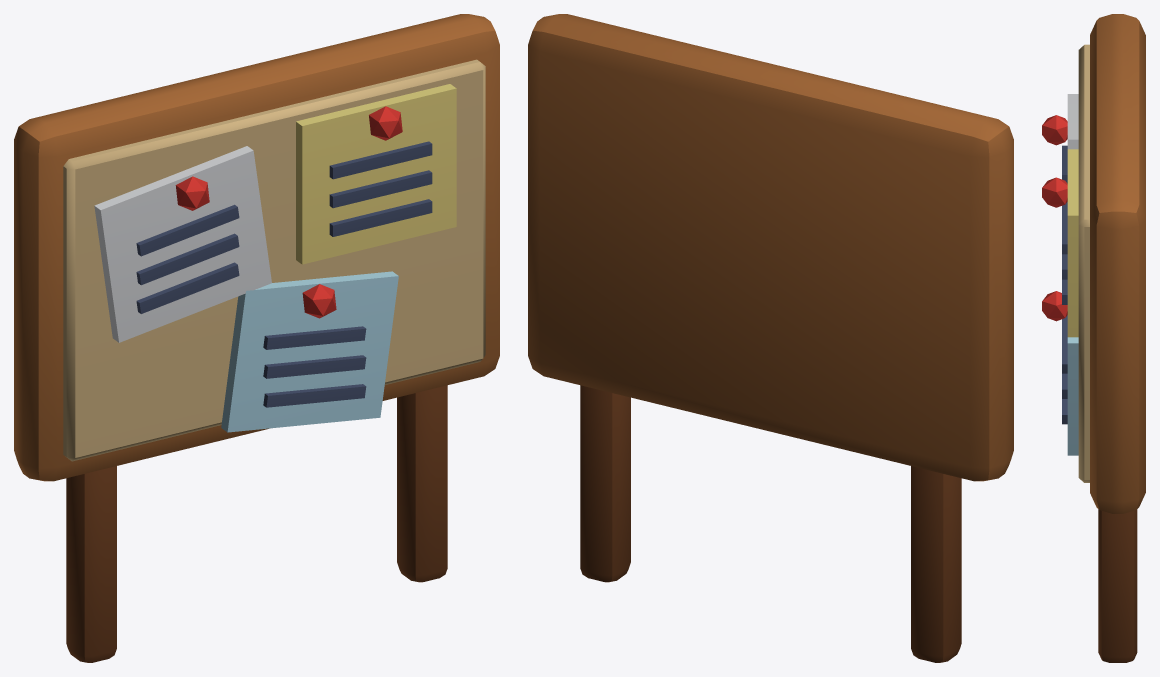
Rendered from ui_news.glb.
3 views of the same model, side by side, from view 1: azimuth 30°, elevation 25°; view 2: azimuth 150°, elevation 25°; view 3: azimuth 270°, elevation 25° (orthographic). The views are drawn at different scales.
Parts seen in each view (by area): view 1: body; view 2: body; view 3: body.
Part boxes in pixels (x1=…): body: x1=14, y1=14, x2=499, y2=662; body: x1=528, y1=14, x2=1013, y2=662; body: x1=1042, y1=14, x2=1145, y2=662.
Bounding box in the file's own units: 0.43 × 0.475 × 0.0928.
